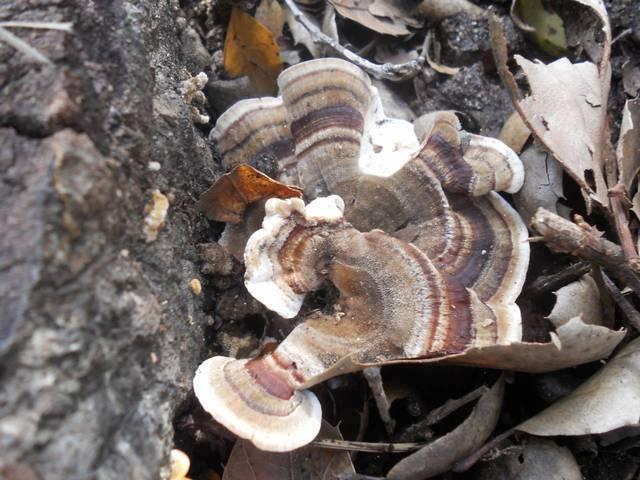Non-edible Mushroom: (190, 56, 625, 453)
